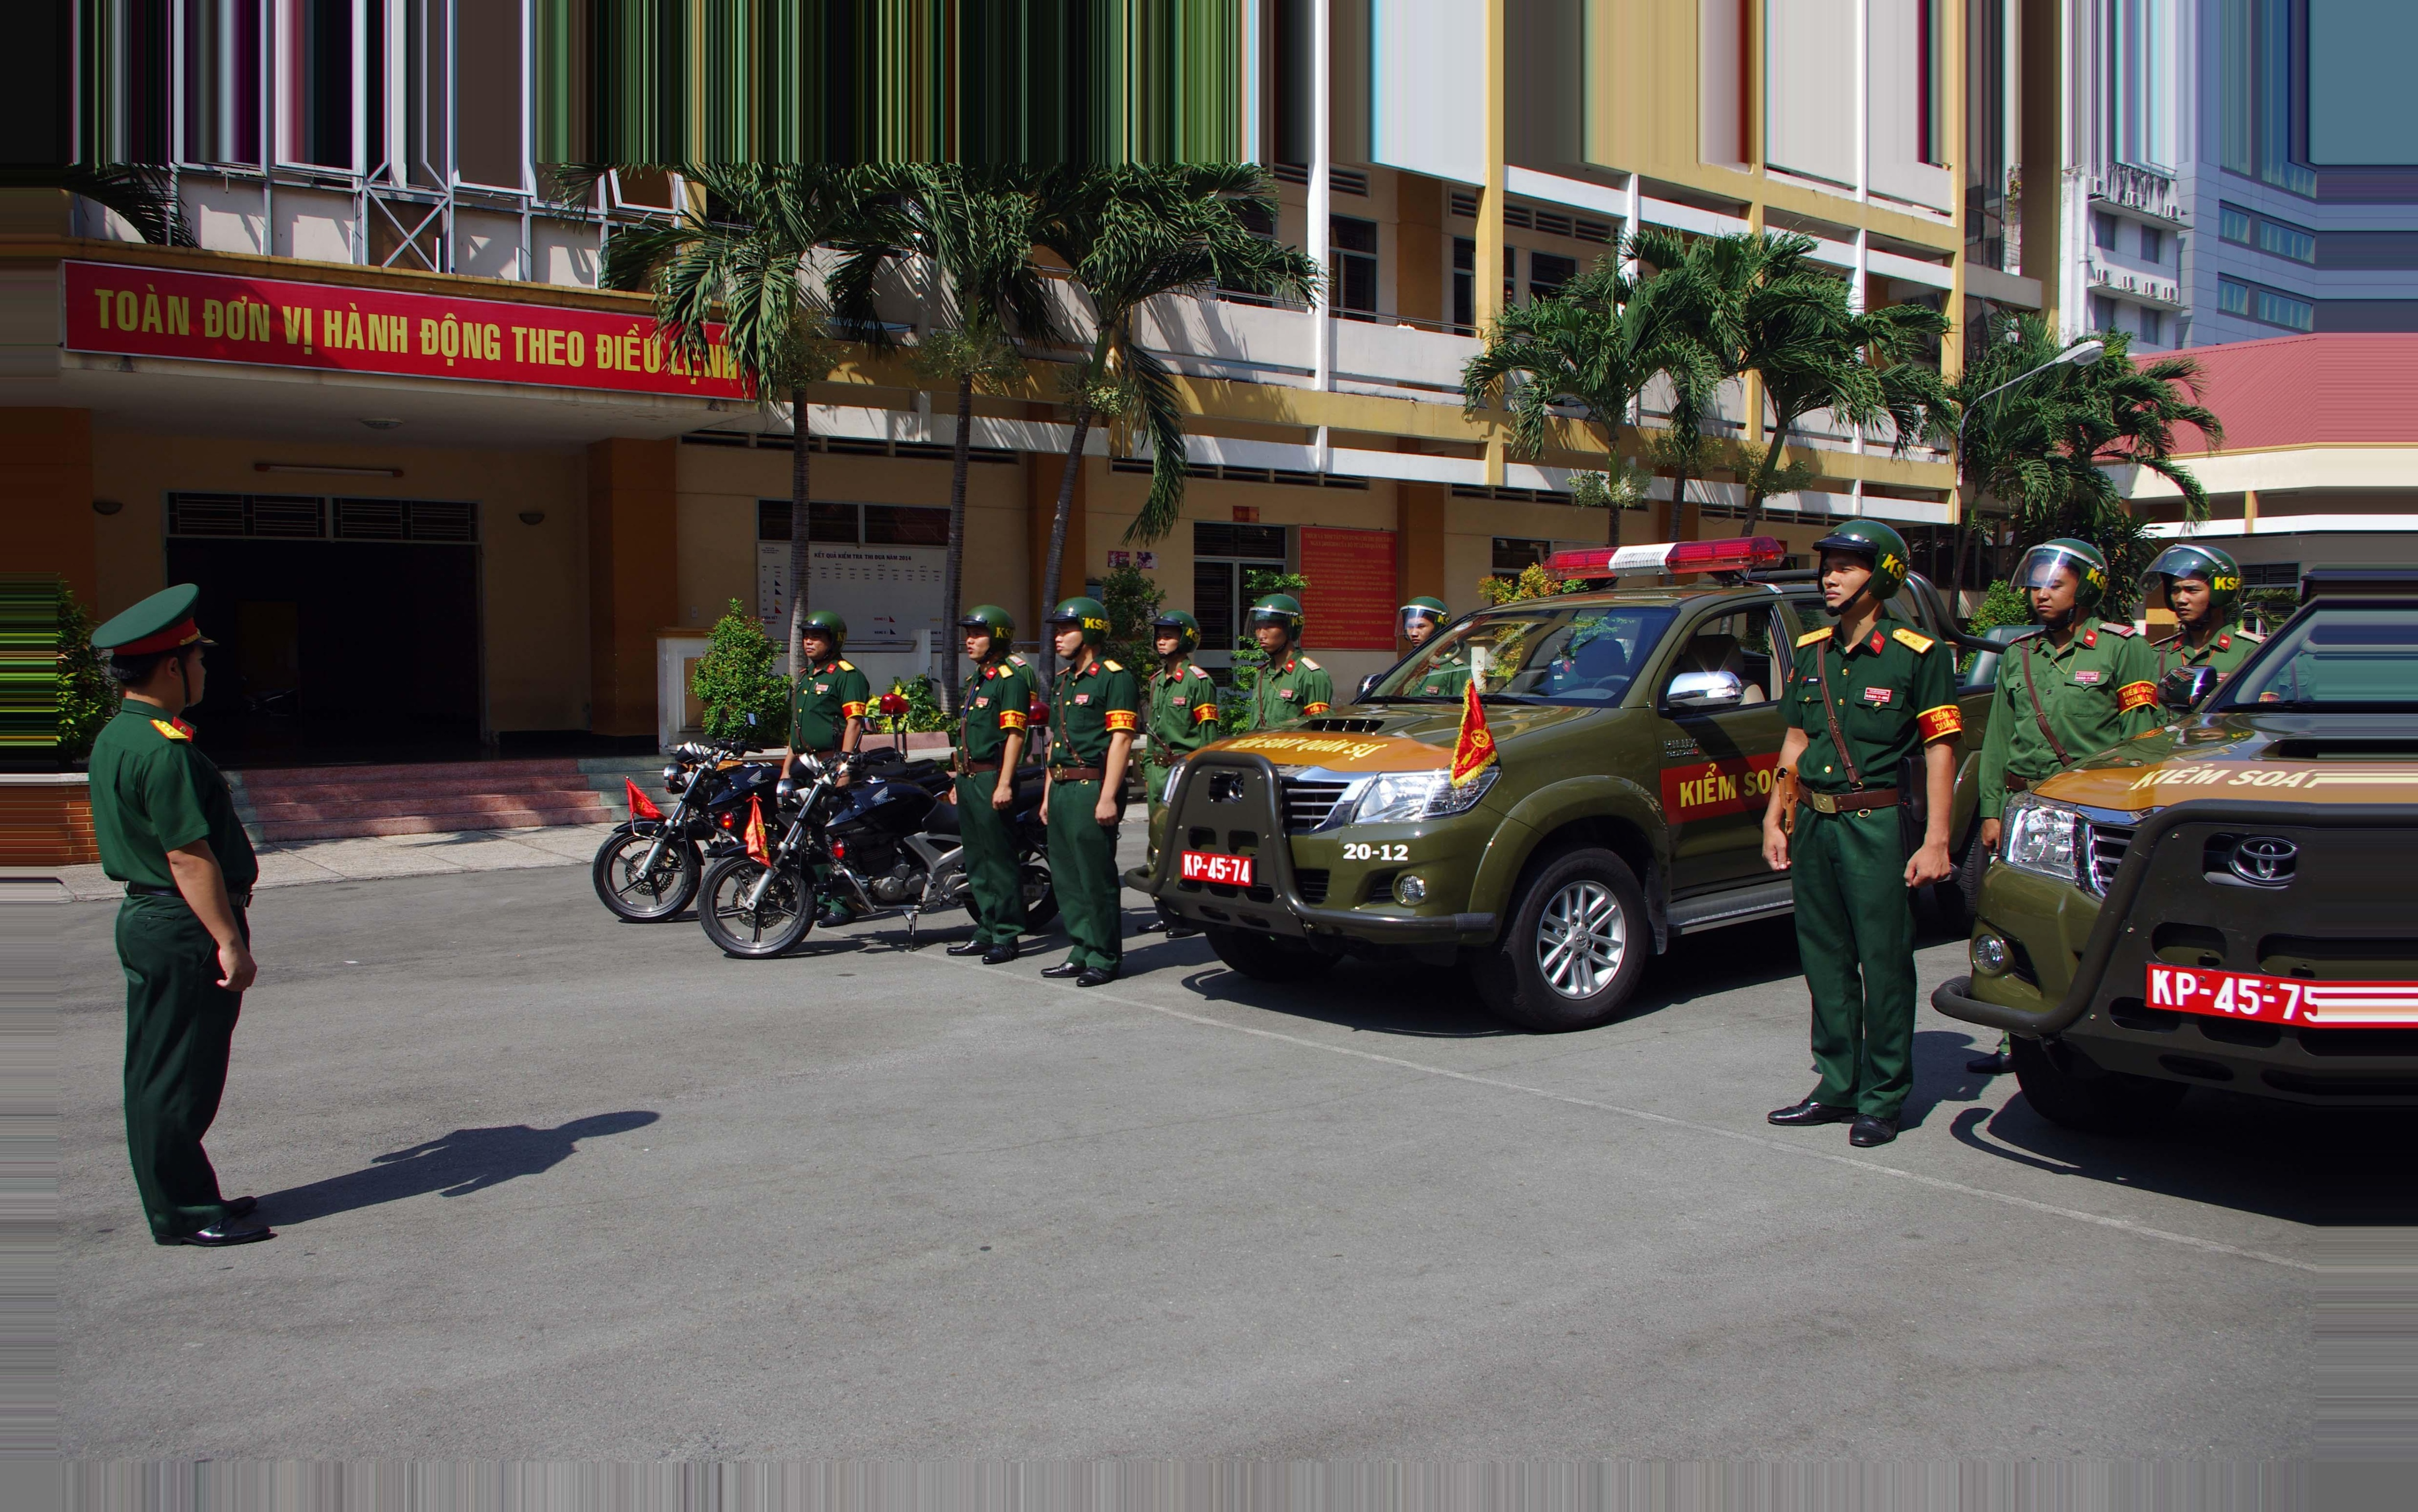plate: (2140, 951, 2352, 1044), (1180, 850, 1257, 904)
